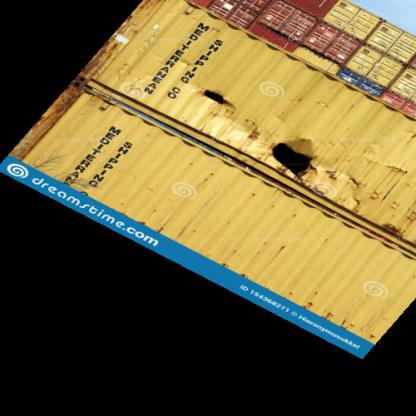Damage: (327, 162, 412, 218), (194, 67, 254, 130), (265, 132, 328, 184)
